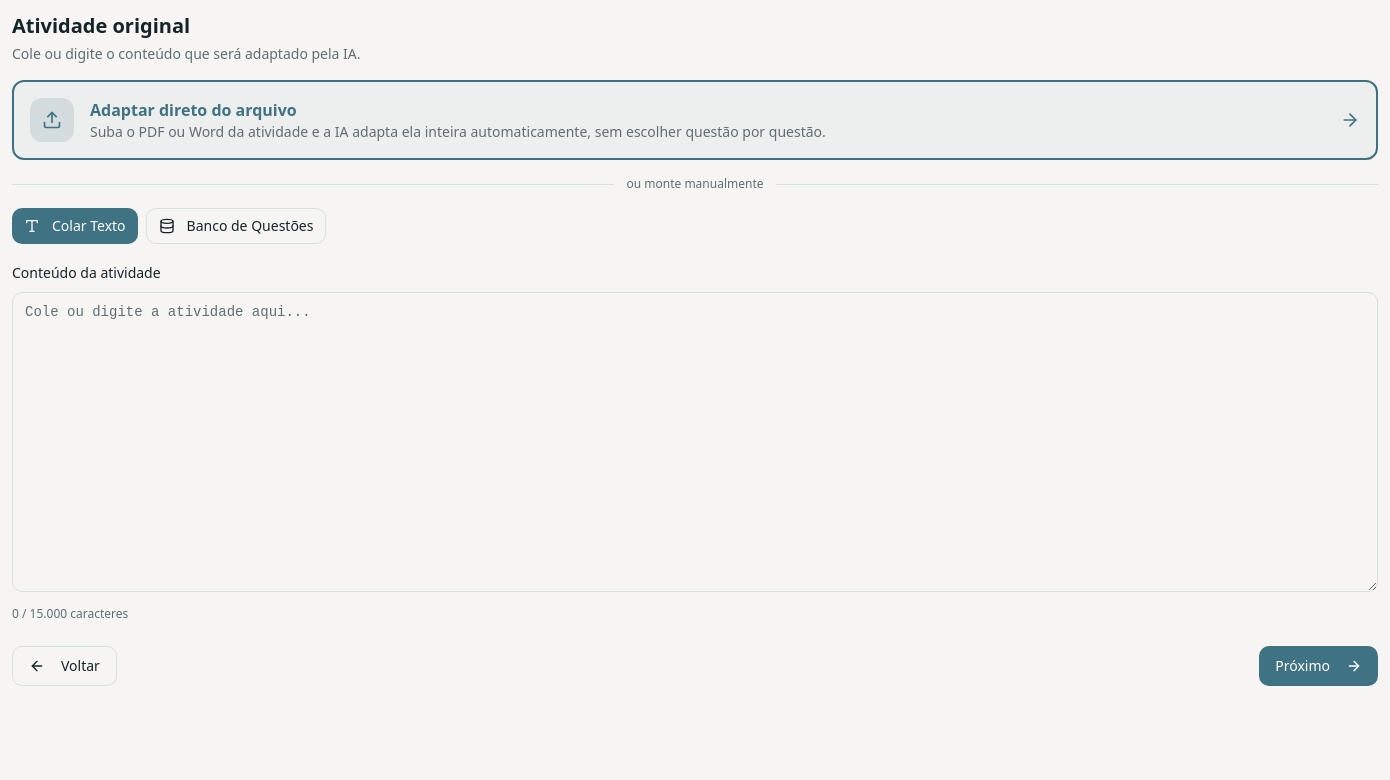
Test case: StepActivityInput — Banco de Questões tab › switching to bank tab shows Abrir Banco button and hides textarea
Click the button "Banco de Questões" at [236, 226], box [146,208,326,244]
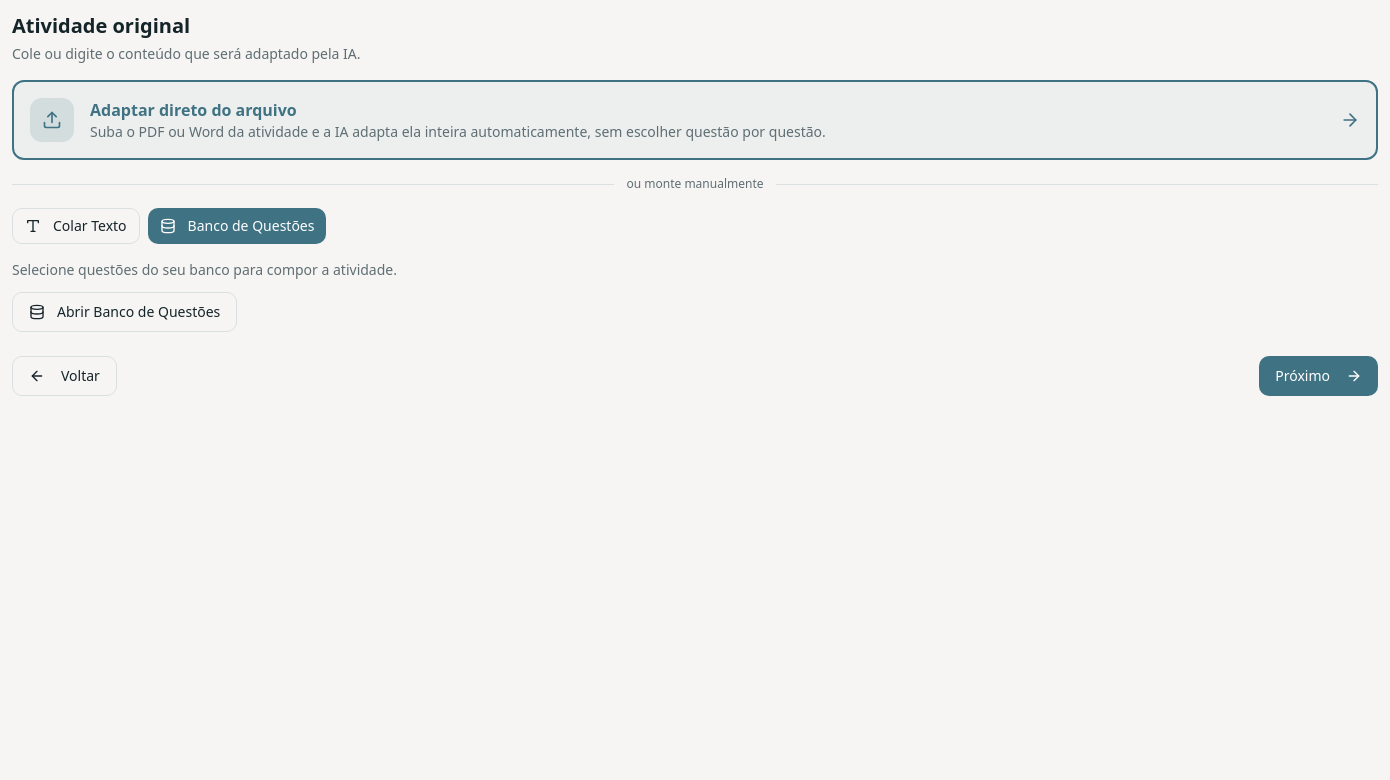
Now the button "Abrir Banco de Questões" is shown, box [12,292,237,332]
Now the label labelled "Conteúdo da atividade" is gone
